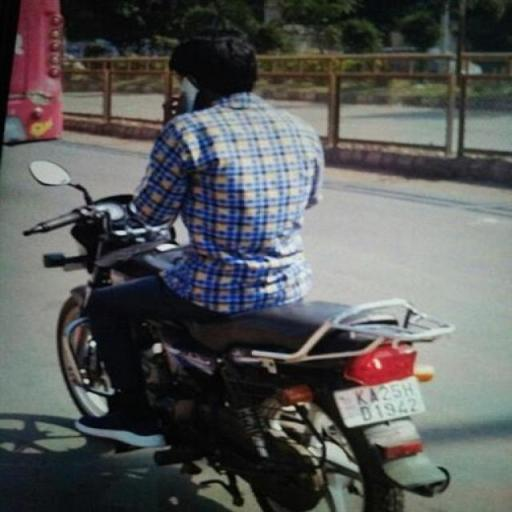using mobile: (158, 75, 204, 119)
